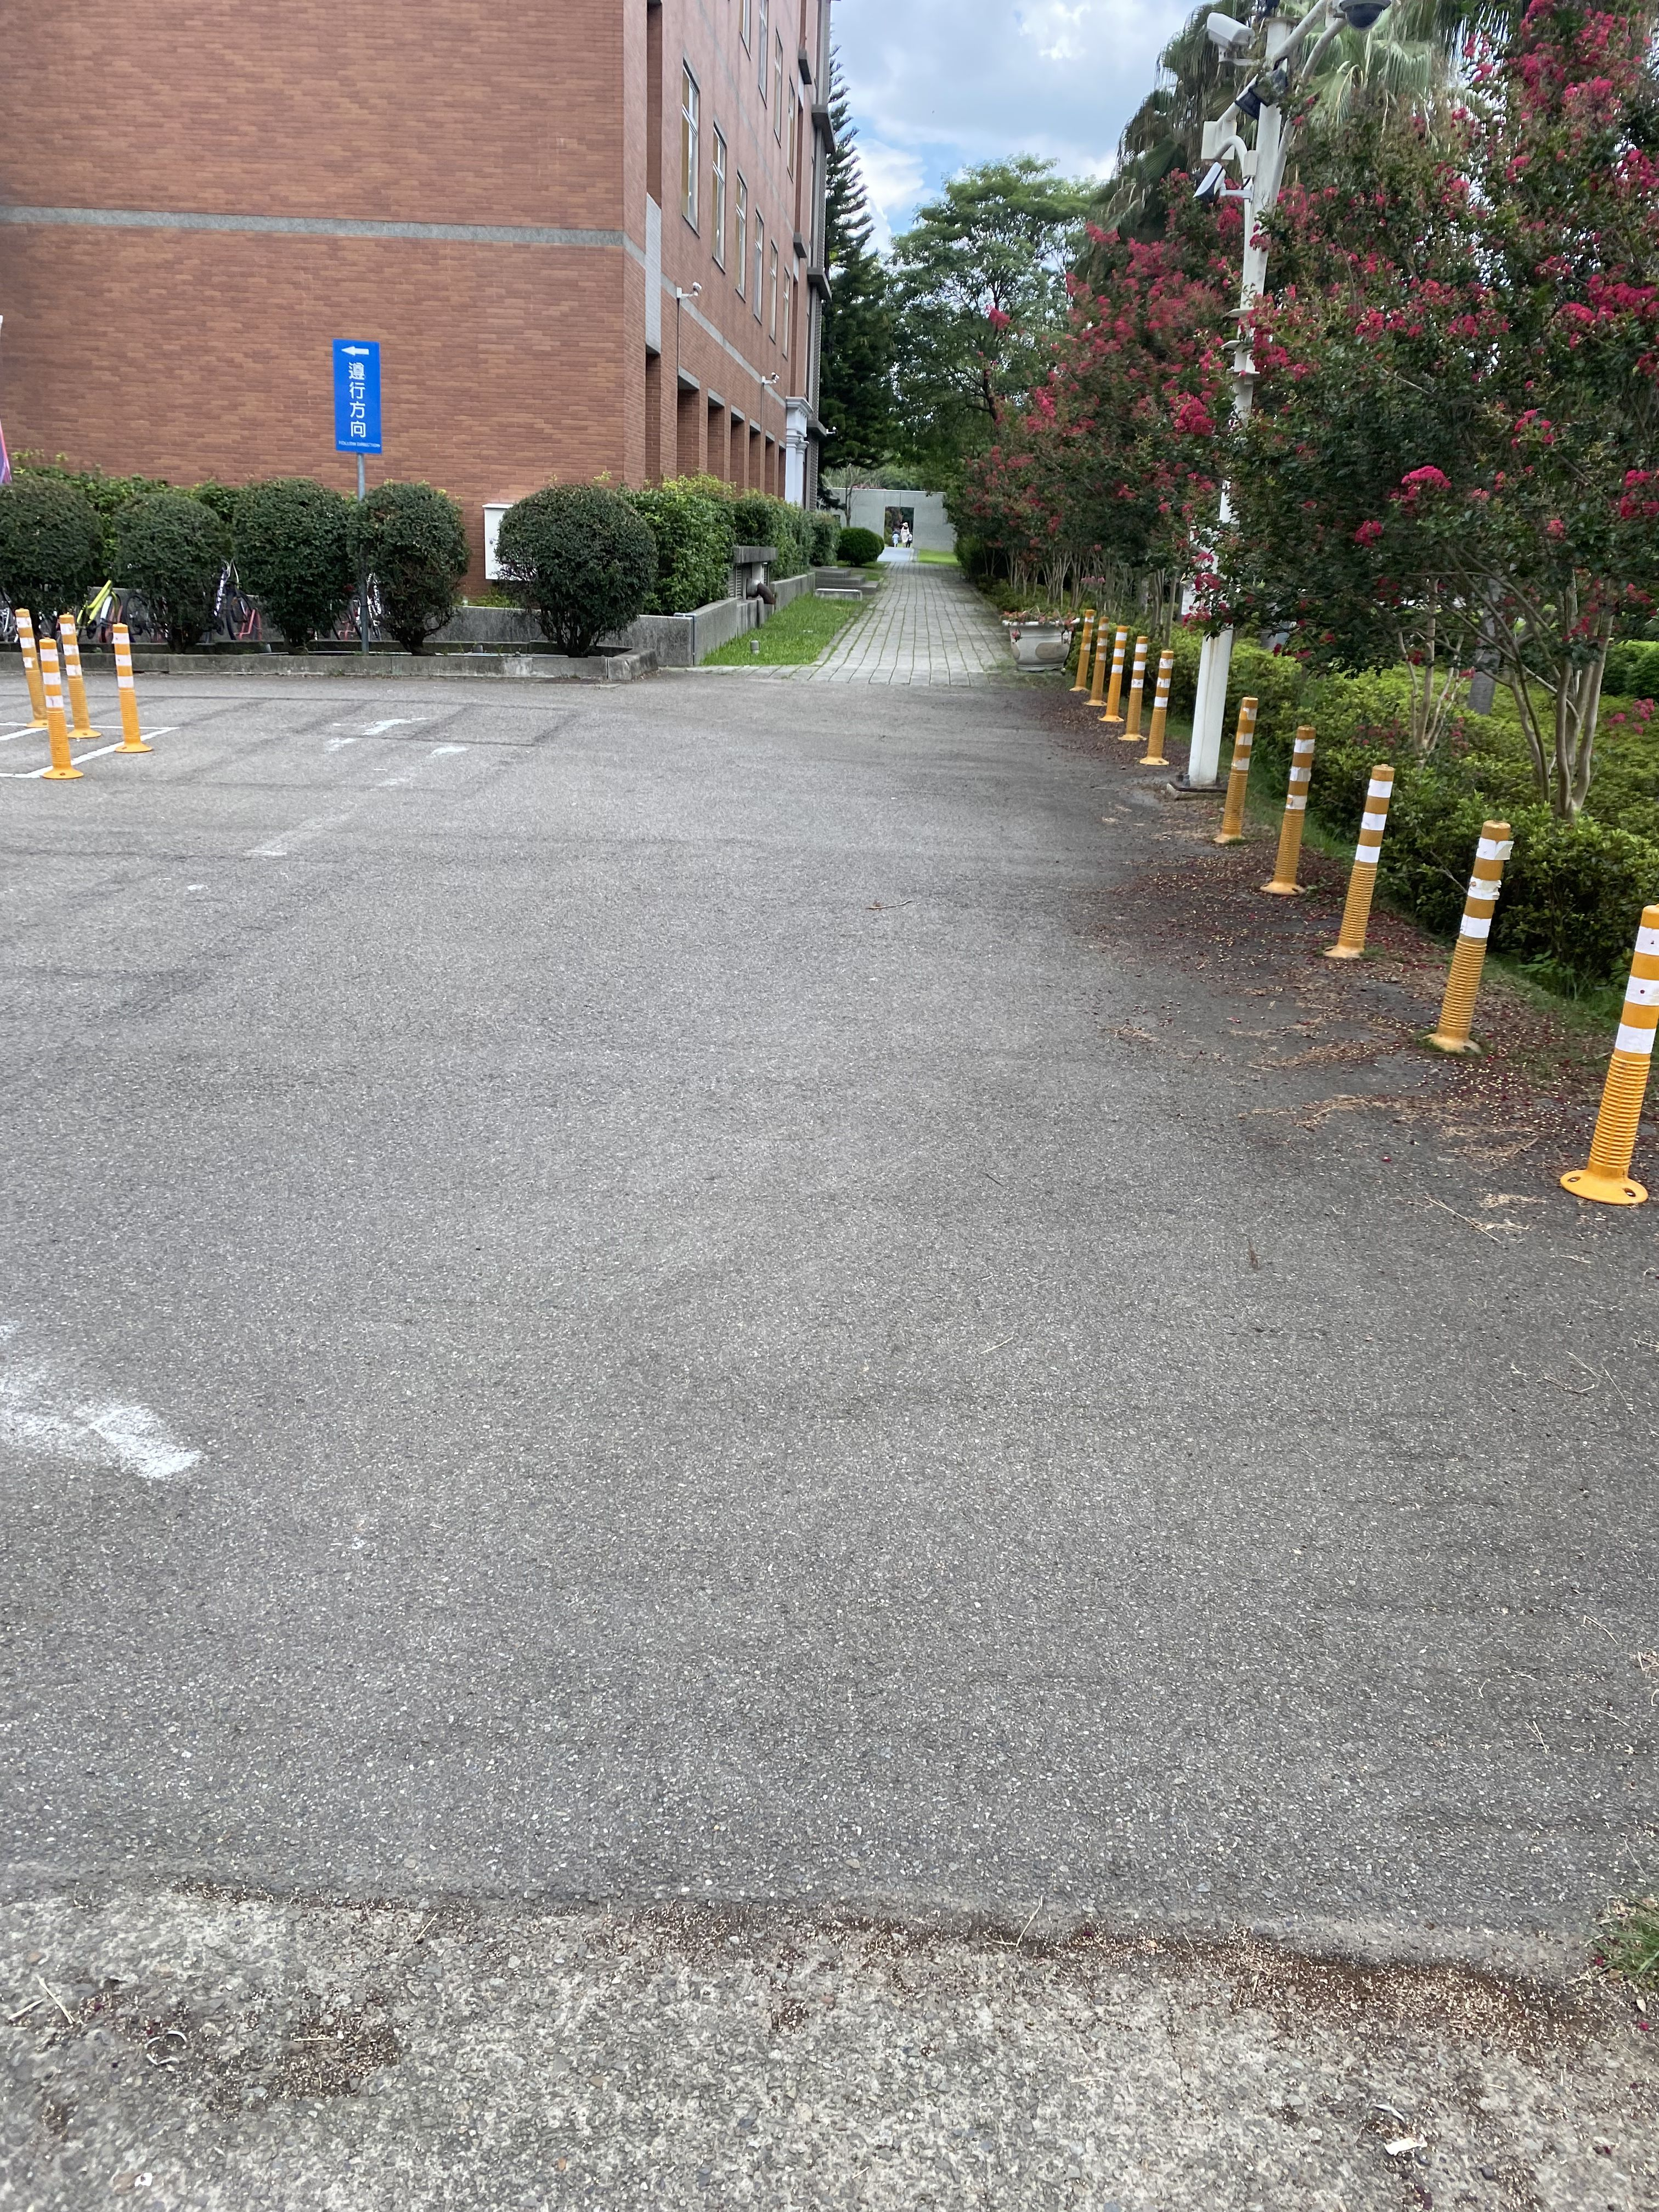0: (192, 650, 1659, 2212)
sidewalk: (796, 493, 1072, 763)
